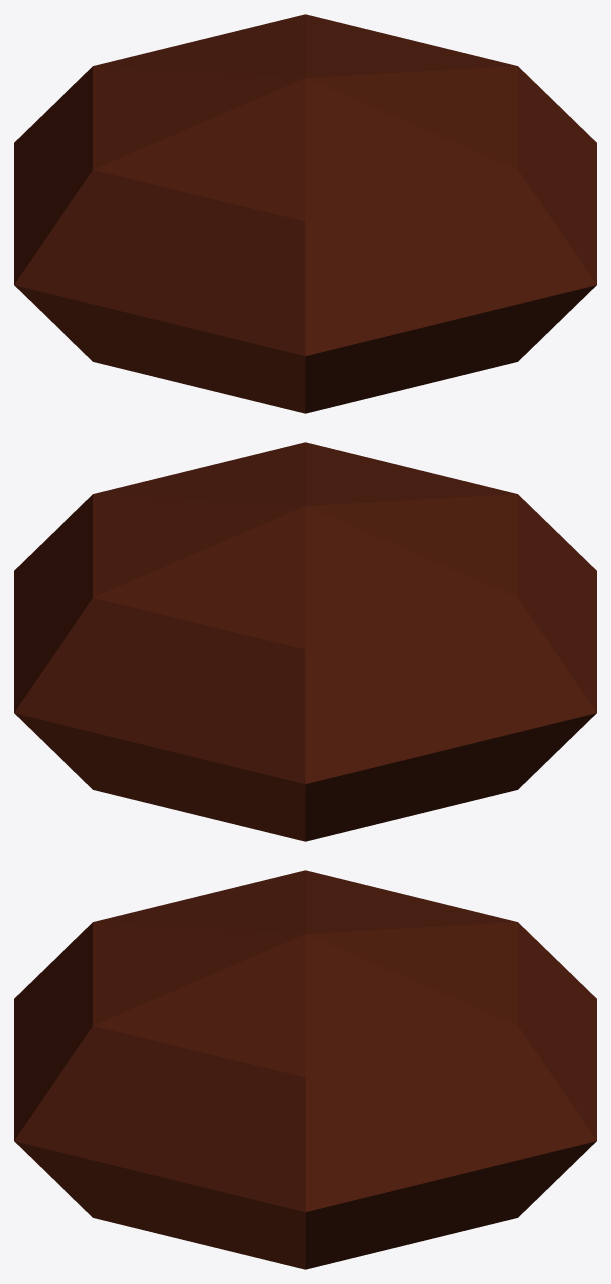
The model's file is DogFoodParticle.fbx.
3 renders of one model, top to bottom at view 1: azimuth 30°, elevation 25°; view 2: azimuth 150°, elevation 25°; view 3: azimuth 270°, elevation 25°, orthographic.
Parts seen in each view (by area): view 1: pSphere1; view 2: pSphere1; view 3: pSphere1.
Part boxes in pixels (left/top/right/bottom): pSphere1: left=14, top=14, right=596, bottom=413; pSphere1: left=14, top=442, right=596, bottom=841; pSphere1: left=14, top=870, right=596, bottom=1269.
Bounding box in the file's own units: 10.87 × 4.84 × 9.42.
